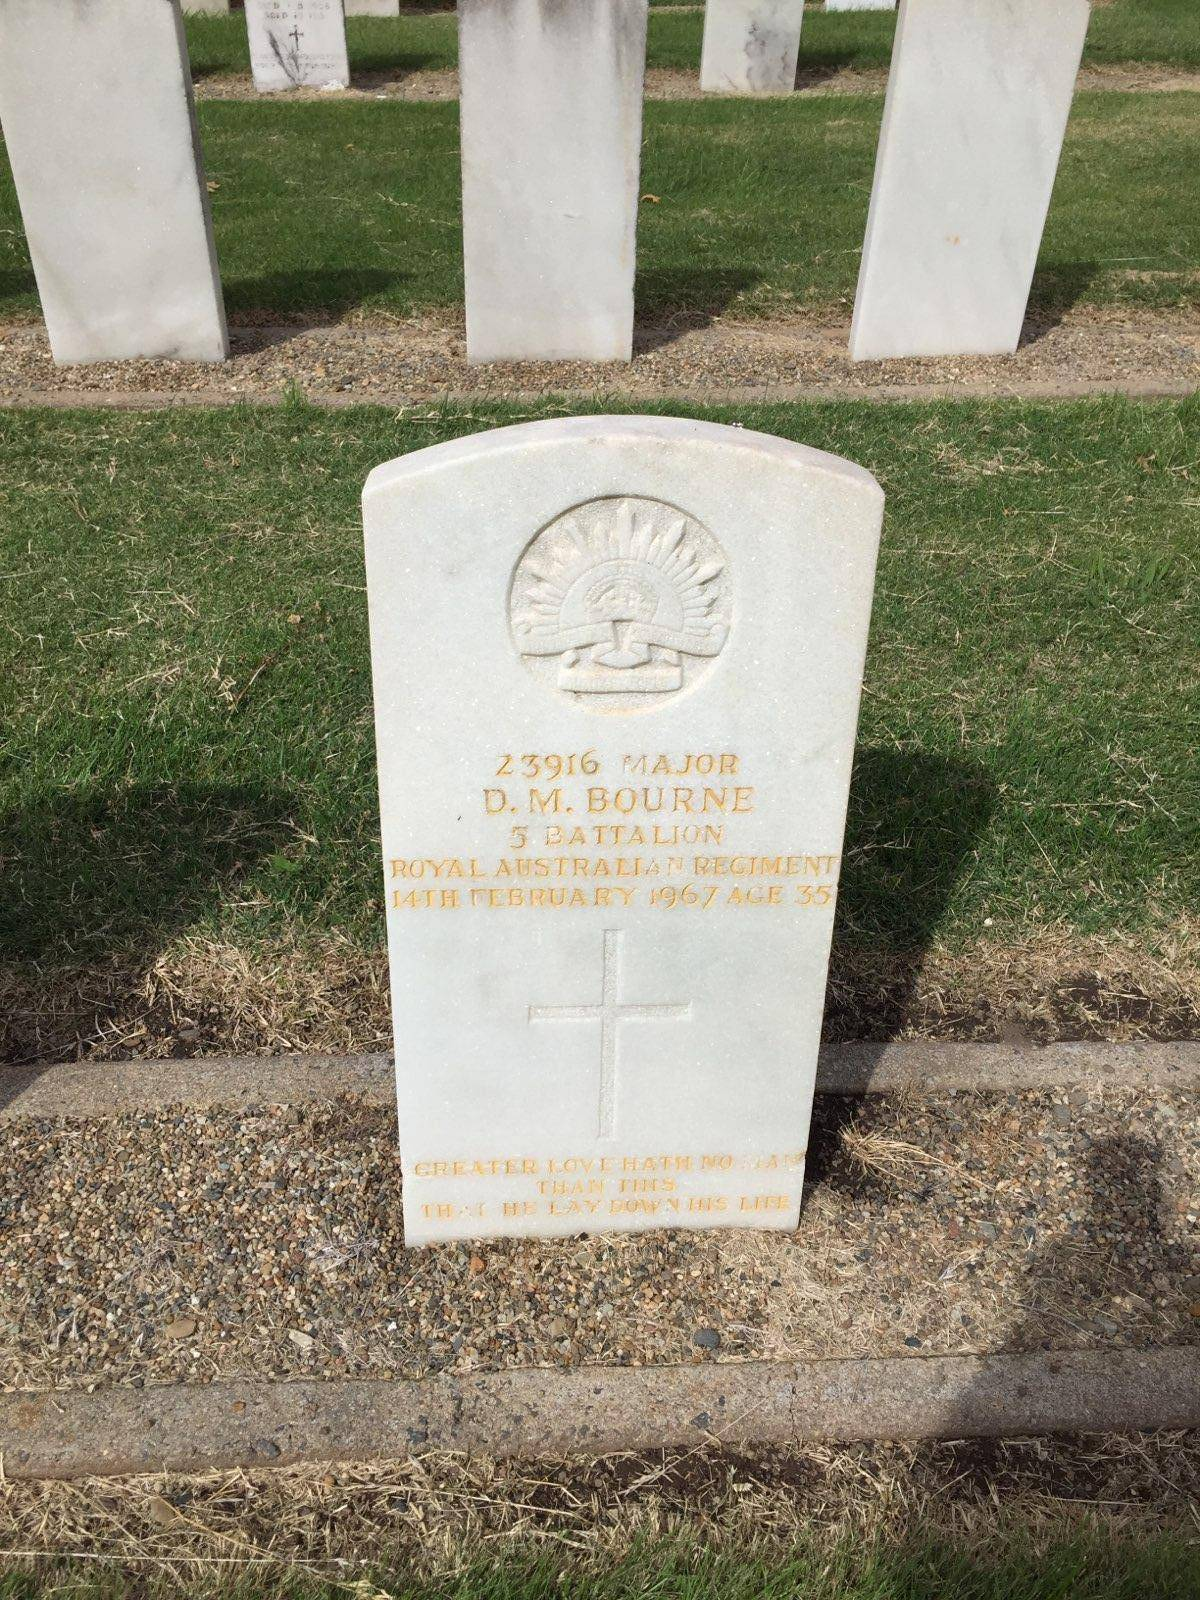military: (361, 409, 887, 1243)
